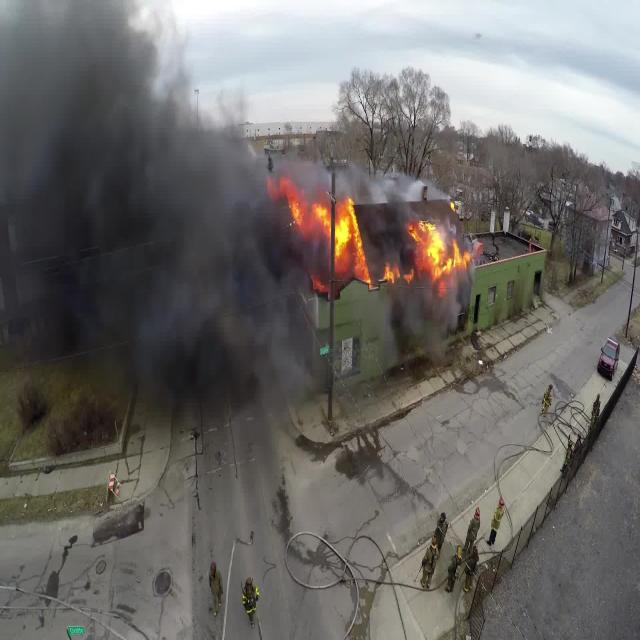Fire: (266, 167, 476, 312)
Smoke: (1, 19, 480, 411)
